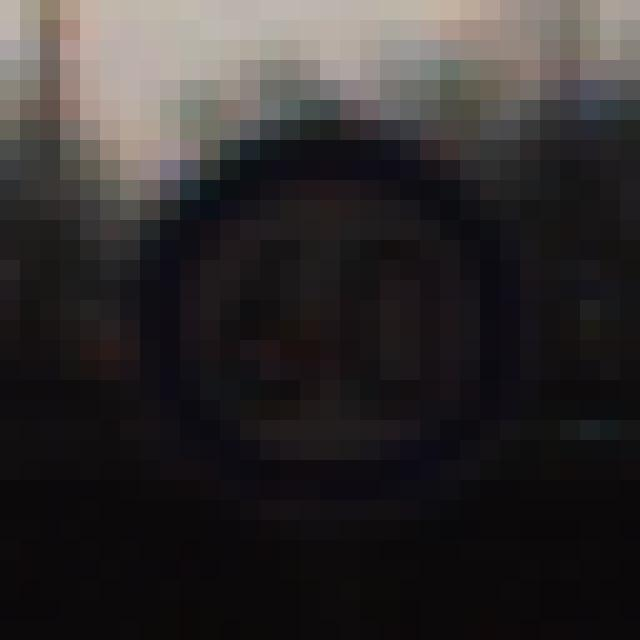SPEED-LIMIT-60: (132, 108, 534, 527)
